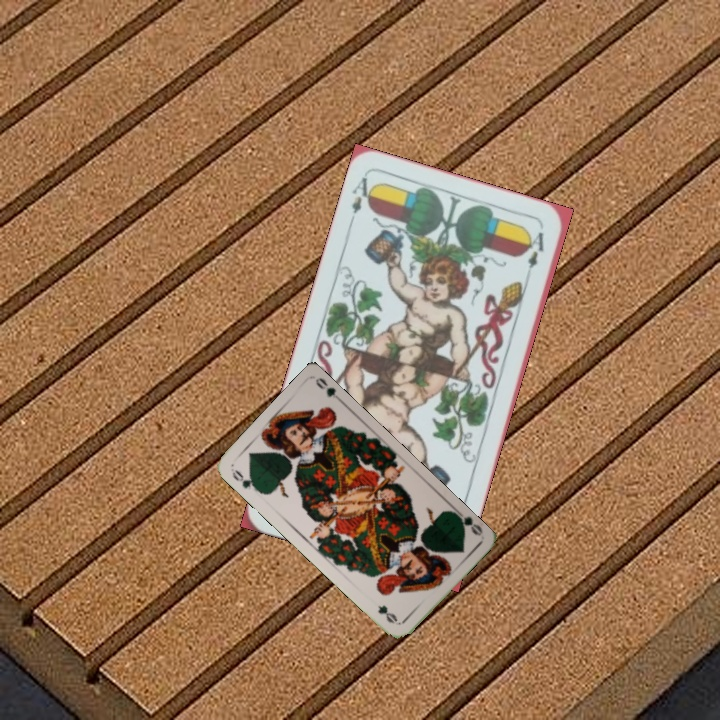EA: (347, 173, 378, 230)
GO: (449, 505, 485, 538), (228, 465, 263, 495)
